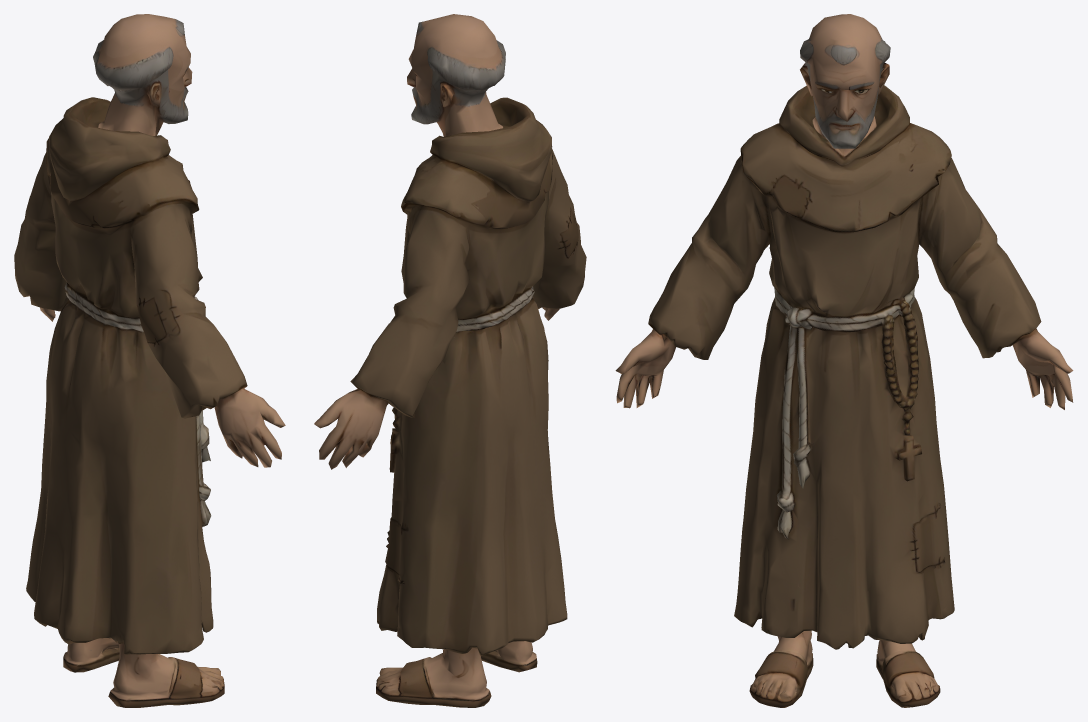
Rendered from a7d391df-d777-41f5-89b2-28a9d3a9c75a_model_url.glb.
3 views of the same model, side by side, from view 1: azimuth 30°, elevation 25°; view 2: azimuth 150°, elevation 25°; view 3: azimuth 270°, elevation 25° (orthographic).
Parts seen in each view (by area): view 1: tripo_node_a7d391df-d777-41f5-89b2-28a9d3a9c75a; view 2: tripo_node_a7d391df-d777-41f5-89b2-28a9d3a9c75a; view 3: tripo_node_a7d391df-d777-41f5-89b2-28a9d3a9c75a.
Part boxes in pixels (bbox=[...]): tripo_node_a7d391df-d777-41f5-89b2-28a9d3a9c75a: bbox=[14, 14, 285, 707]; tripo_node_a7d391df-d777-41f5-89b2-28a9d3a9c75a: bbox=[314, 14, 586, 707]; tripo_node_a7d391df-d777-41f5-89b2-28a9d3a9c75a: bbox=[615, 14, 1073, 707].
Size of the model in its own units: 0.2382 by 1 by 0.6229.
1 material, 1 textured.
